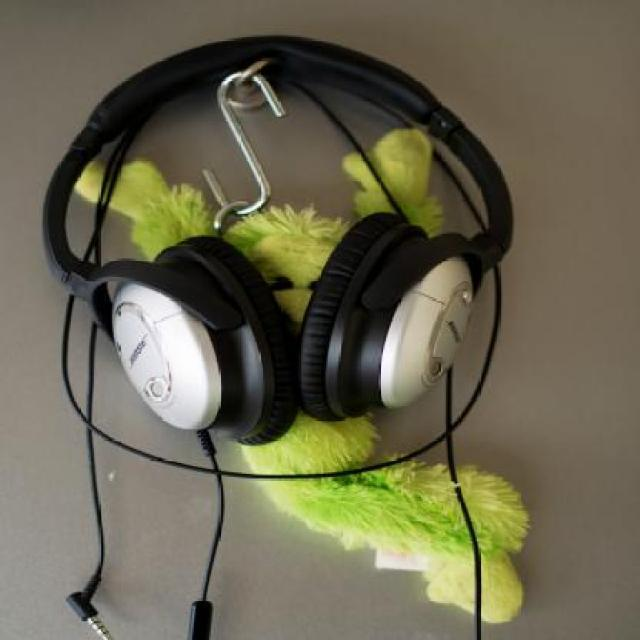earphone: (35, 21, 540, 466)
